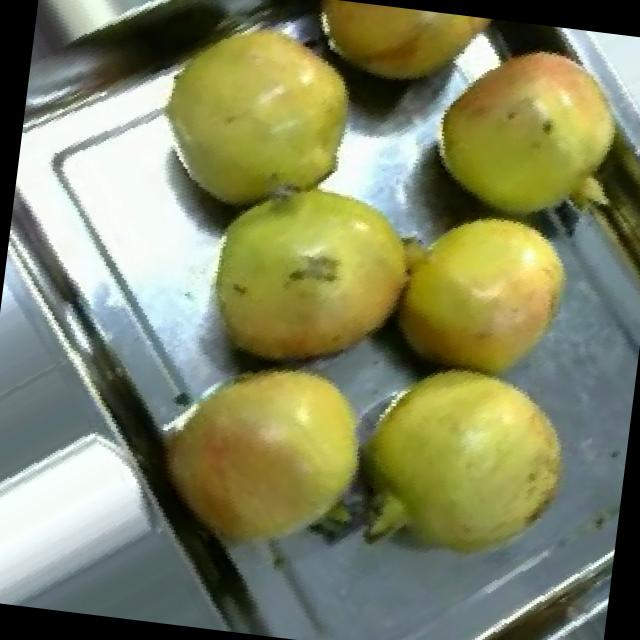fruit: (118, 323, 408, 611), (170, 146, 452, 415), (324, 330, 604, 597), (117, 0, 391, 250), (400, 11, 640, 248), (361, 181, 599, 400), (275, 0, 509, 116)
